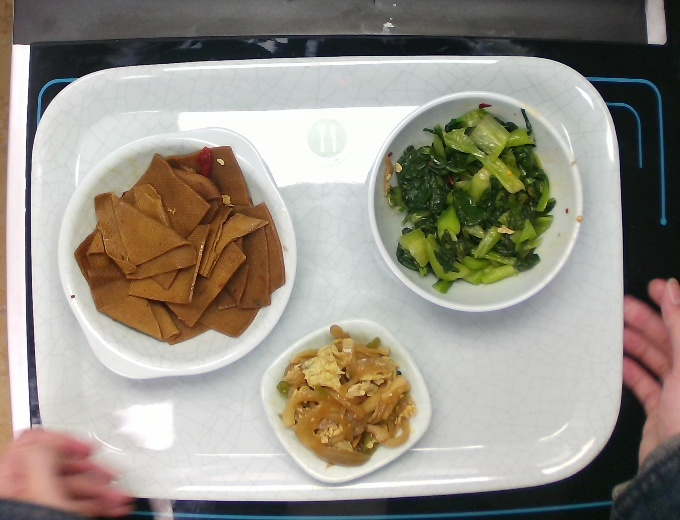JYsf-Fan_Wan: (363, 86, 590, 317)
JYsf-Shuang_Er_Wan: (54, 123, 300, 384)
JYsf-Si_Fang_Die: (254, 315, 436, 487)
